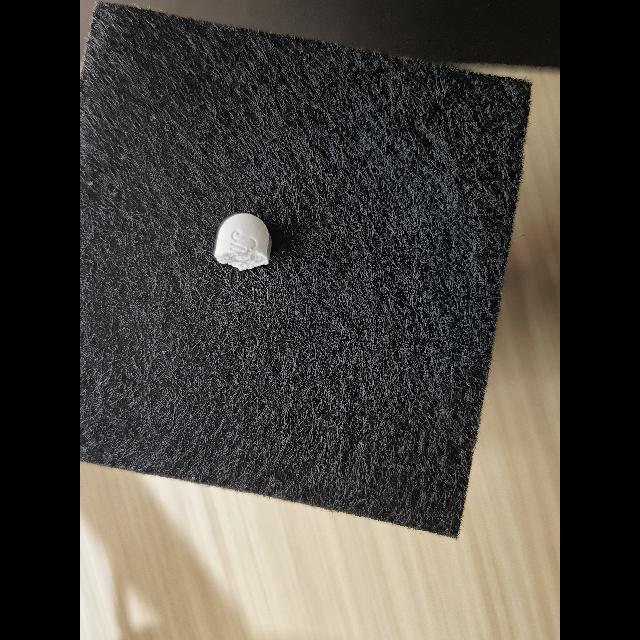Chipped Pill: (214, 213, 272, 271)
